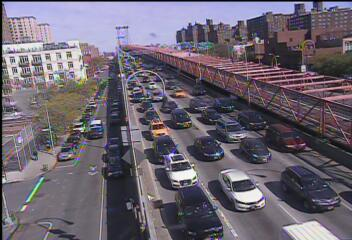neg: (120, 190, 148, 228), (6, 92, 15, 104)
pos: (25, 142, 44, 167)
